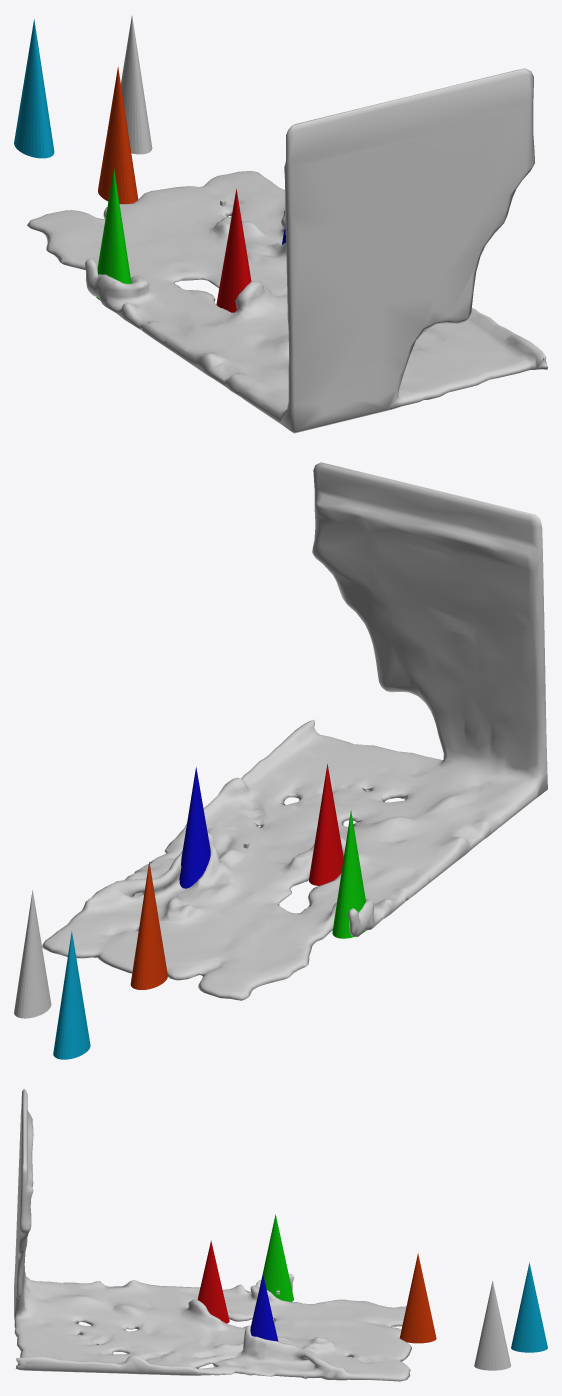
3 renders of one model, top to bottom at view 1: azimuth 30°, elevation 25°; view 2: azimuth 150°, elevation 25°; view 3: azimuth 270°, elevation 25°, orthographic. The views are drawn at different scales.
Visible parts, largest first — view 1: Liquid_Domain, 円錐.005, 円錐.004, 円錐, 円錐.001, 円錐.003; view 2: Liquid_Domain, 円錐.005, 円錐, 円錐.004, 円錐.001, 円錐.002, 円錐.003; view 3: Liquid_Domain, 円錐.005, 円錐, 円錐.004, 円錐.003, 円錐.001, 円錐.002.
Part boxes in pixels (x1,y1,x2,y2): Liquid_Domain: (27,68,547,433); 円錐.005: (14,19,54,158); 円錐.004: (98,66,138,203); 円錐: (121,15,152,154); 円錐.001: (216,188,251,312); 円錐.003: (96,168,131,299); Liquid_Domain: (42,462,547,1000); 円錐.005: (53,931,90,1059); 円錐: (14,890,51,1018); 円錐.004: (130,862,167,989); 円錐.001: (309,763,343,885); 円錐.002: (179,767,210,888); 円錐.003: (332,810,365,938); Liquid_Domain: (14,1089,411,1381); 円錐.005: (511,1262,547,1352); 円錐: (474,1281,510,1370); 円錐.004: (400,1253,436,1343); 円錐.003: (262,1214,293,1301); 円錐.001: (197,1240,229,1323); 円錐.002: (250,1274,278,1341).
Size of the model in its own units: 129 by 158 by 347.
